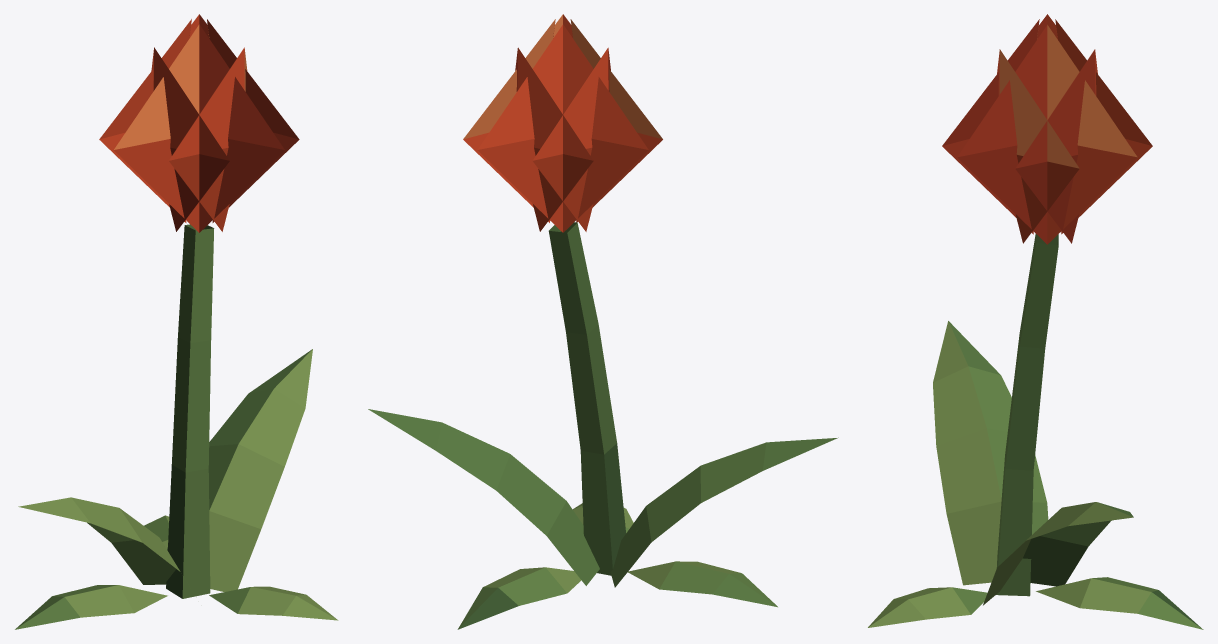
File: flower_redA.glb
The picture shows the model from 3 angles, left to right: view 1: azimuth 30°, elevation 25°; view 2: azimuth 150°, elevation 25°; view 3: azimuth 270°, elevation 25°; orthographic projection. The views are drawn at different scales.
Visible parts, largest first — view 1: flower_redA.002; view 2: flower_redA.002; view 3: flower_redA.002.
Part boxes in pixels (x1,y1,x2,y2): flower_redA.002: (15, 14, 338, 629); flower_redA.002: (368, 14, 838, 629); flower_redA.002: (868, 14, 1203, 629).
Bounding box in the file's own units: 0.3919 × 0.55 × 0.2829.
